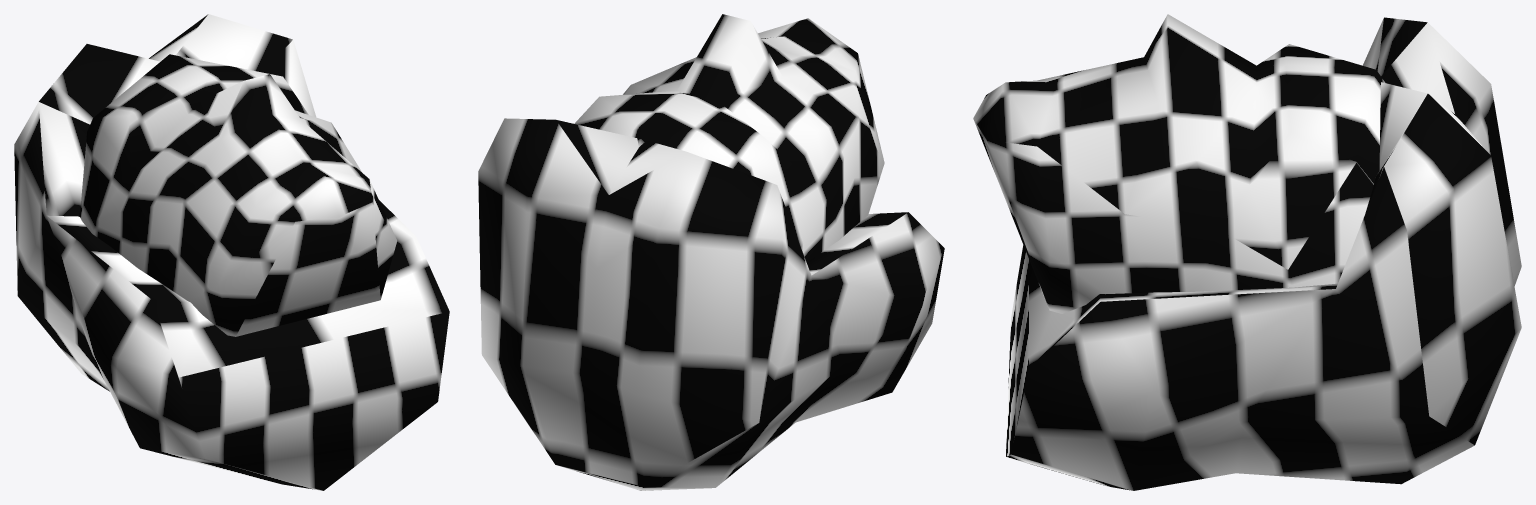
File: infaunhumame1.dae
The picture shows the model from 3 angles, left to right: view 1: azimuth 30°, elevation 25°; view 2: azimuth 150°, elevation 25°; view 3: azimuth 270°, elevation 25°; orthographic projection. The views are drawn at different scales.
Parts seen in each view (by area): view 1: face; view 2: face; view 3: face.
Part boxes in pixels (box(x1,y1,x2,y2)): face: box(14, 14, 449, 490); face: box(478, 14, 944, 490); face: box(973, 14, 1521, 490).
Bounding box in the file's own units: 1.24 × 1.49 × 1.39.
Materials: 1 (1 with a texture image).
